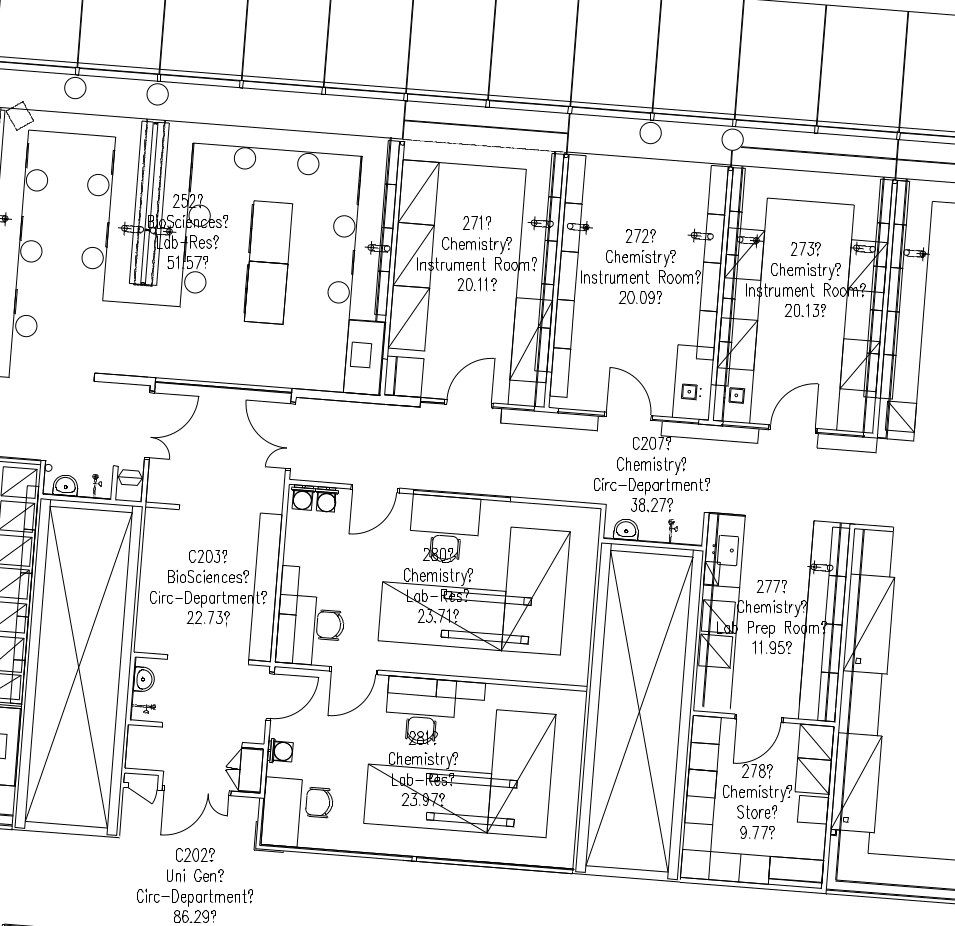door: (236, 396, 295, 476), (148, 390, 207, 470), (157, 783, 234, 841), (440, 350, 497, 413), (599, 358, 656, 421), (767, 378, 824, 441), (727, 706, 784, 769)
